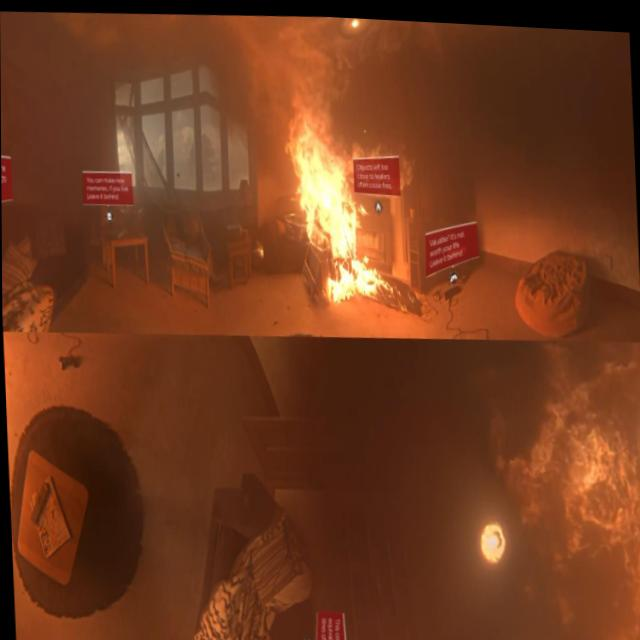fire: (503, 357, 640, 640), (282, 97, 393, 306)
